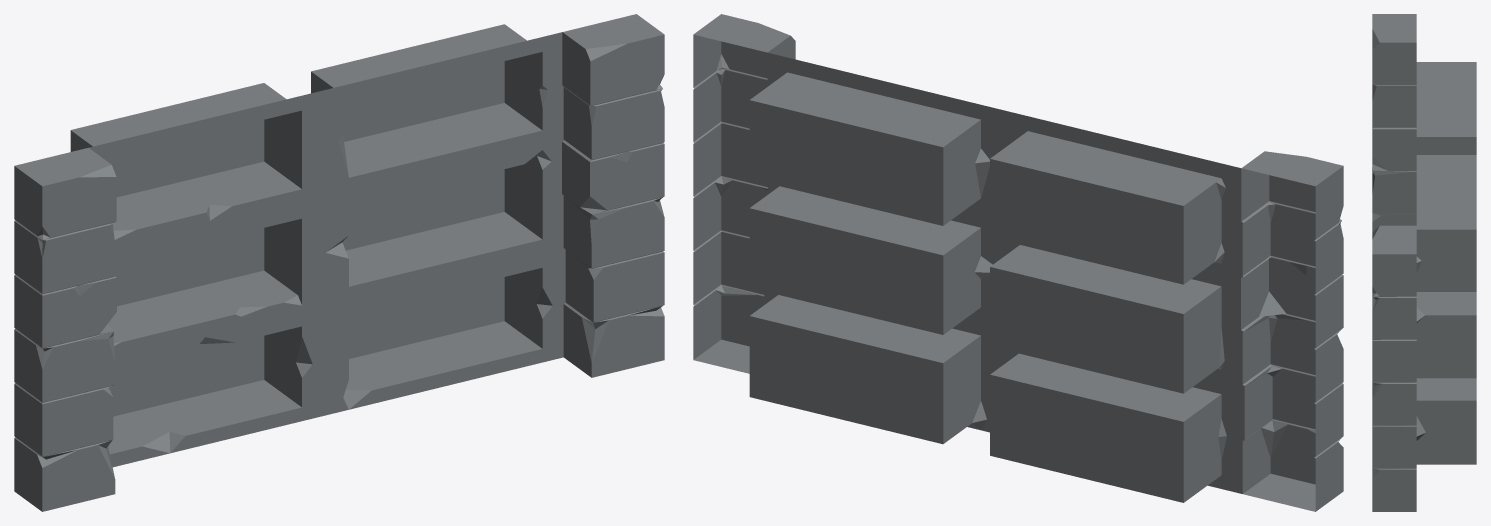
File: Gabarit_A.FBX
3 renders of one model, left to right at view 1: azimuth 30°, elevation 25°; view 2: azimuth 150°, elevation 25°; view 3: azimuth 270°, elevation 25°, orthographic. The views are drawn at different scales.
Visible parts, largest first — view 1: Gabarit_A; view 2: Gabarit_A; view 3: Gabarit_A.
Part boxes in pixels (<box>): Gabarit_A: <box>14,14,664,511</box>; Gabarit_A: <box>693,14,1343,511</box>; Gabarit_A: <box>1372,14,1476,511</box>.
Size of the model in its own units: 512 by 256 by 93.98.
Materials: 1 (1 with a texture image).
